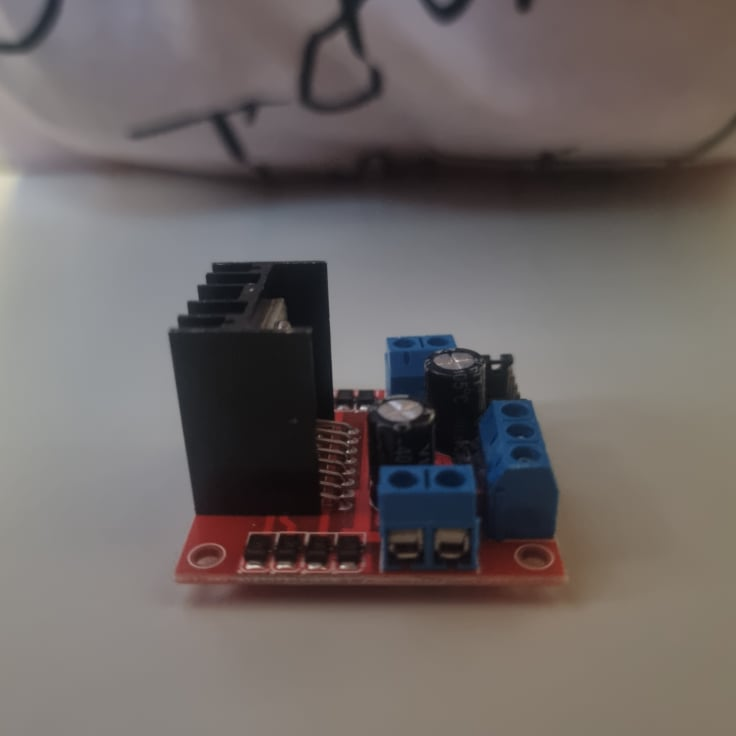MOTOR: (164, 260, 572, 588)
